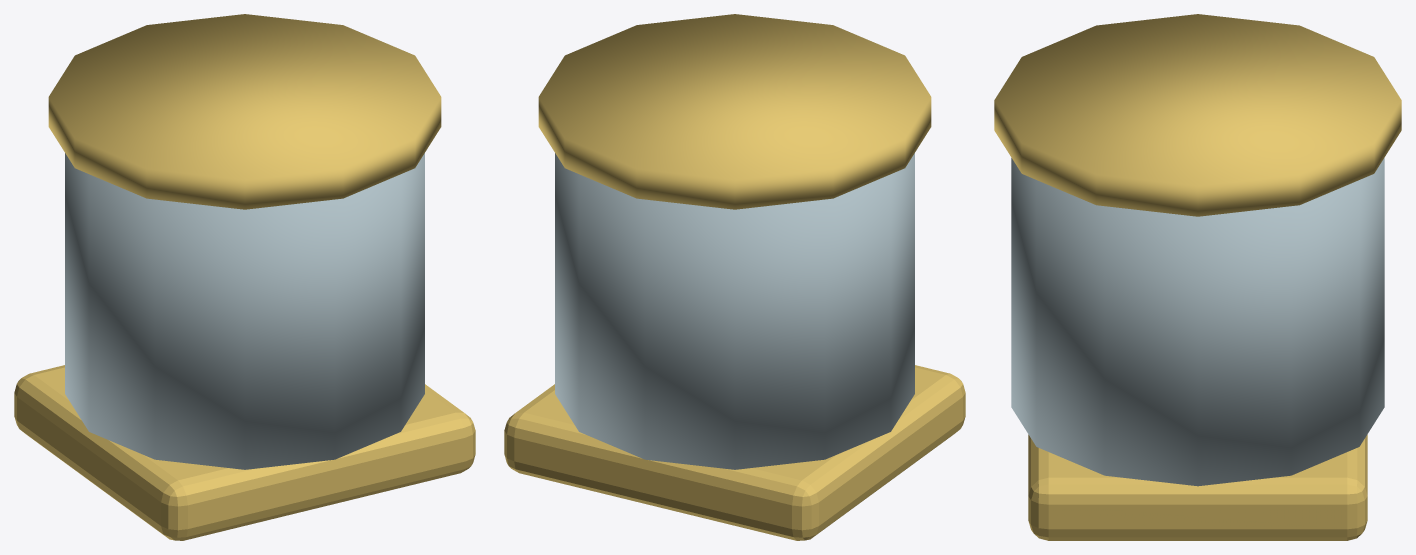
The model's file is reliquary_skull_shrine.glb.
3 views of the same model, side by side, from view 1: azimuth 30°, elevation 25°; view 2: azimuth 150°, elevation 25°; view 3: azimuth 270°, elevation 25° (orthographic). The views are drawn at different scales.
Parts seen in each view (by area): view 1: GD_reliquary_skull_shrine__m1, GD_reliquary_skull_shrine__m0; view 2: GD_reliquary_skull_shrine__m1, GD_reliquary_skull_shrine__m0; view 3: GD_reliquary_skull_shrine__m1, GD_reliquary_skull_shrine__m0.
Part boxes in pixels (x1,y1,x2,y2): GD_reliquary_skull_shrine__m1: [65, 153, 424, 469]; GD_reliquary_skull_shrine__m0: [14, 14, 475, 540]; GD_reliquary_skull_shrine__m1: [555, 153, 914, 469]; GD_reliquary_skull_shrine__m0: [504, 14, 965, 540]; GD_reliquary_skull_shrine__m1: [1011, 158, 1384, 486]; GD_reliquary_skull_shrine__m0: [994, 14, 1401, 540].
Size of the model in its own units: 0.24 by 0.24 by 0.24.
